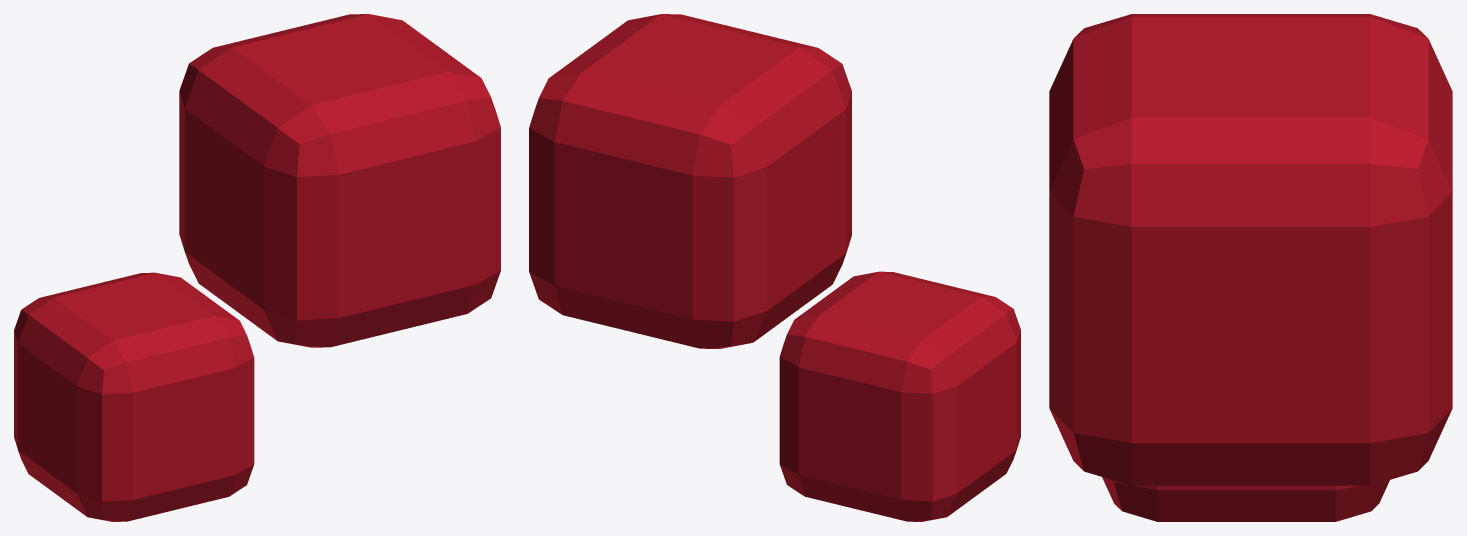
File: tree-dead-leaves-011.glb
The picture shows the model from 3 angles, left to right: view 1: azimuth 30°, elevation 25°; view 2: azimuth 150°, elevation 25°; view 3: azimuth 270°, elevation 25°; orthographic projection. The views are drawn at different scales.
Visible parts, largest first — view 1: Cube.089_441; view 2: Cube.089_441; view 3: Cube.089_441.
Boxes of the visible parts, box(x1,y1,x2,y2) form: Cube.089_441: box(14, 14, 500, 521); Cube.089_441: box(529, 14, 1020, 521); Cube.089_441: box(1049, 14, 1452, 521).
Bounding box in the file's own units: 1.15 × 1.01 × 0.6486.
